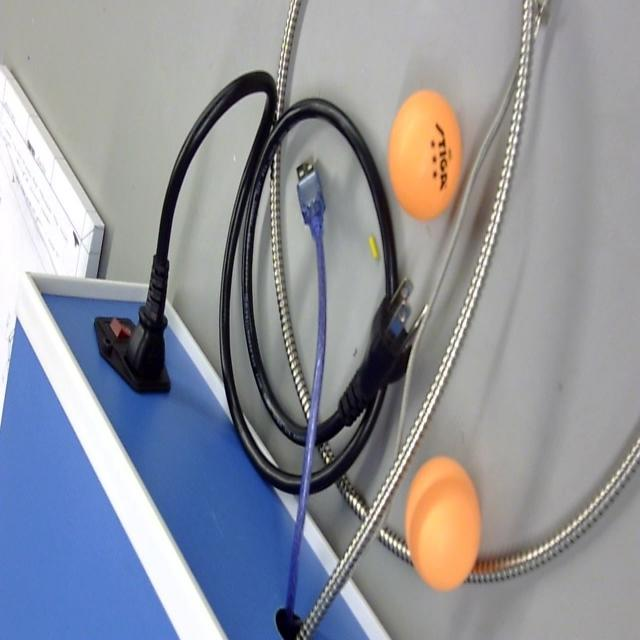ball: (404, 454, 483, 596), (388, 84, 463, 223)
